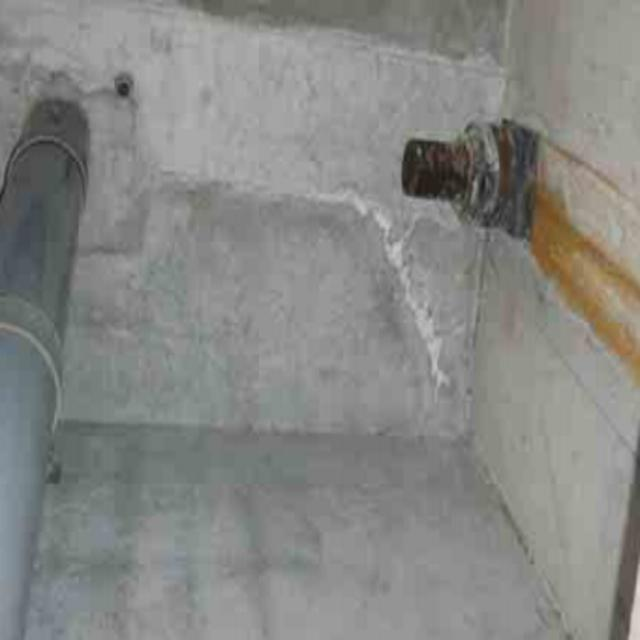corrosion: (402, 100, 534, 237)
leakage: (558, 178, 640, 362)
